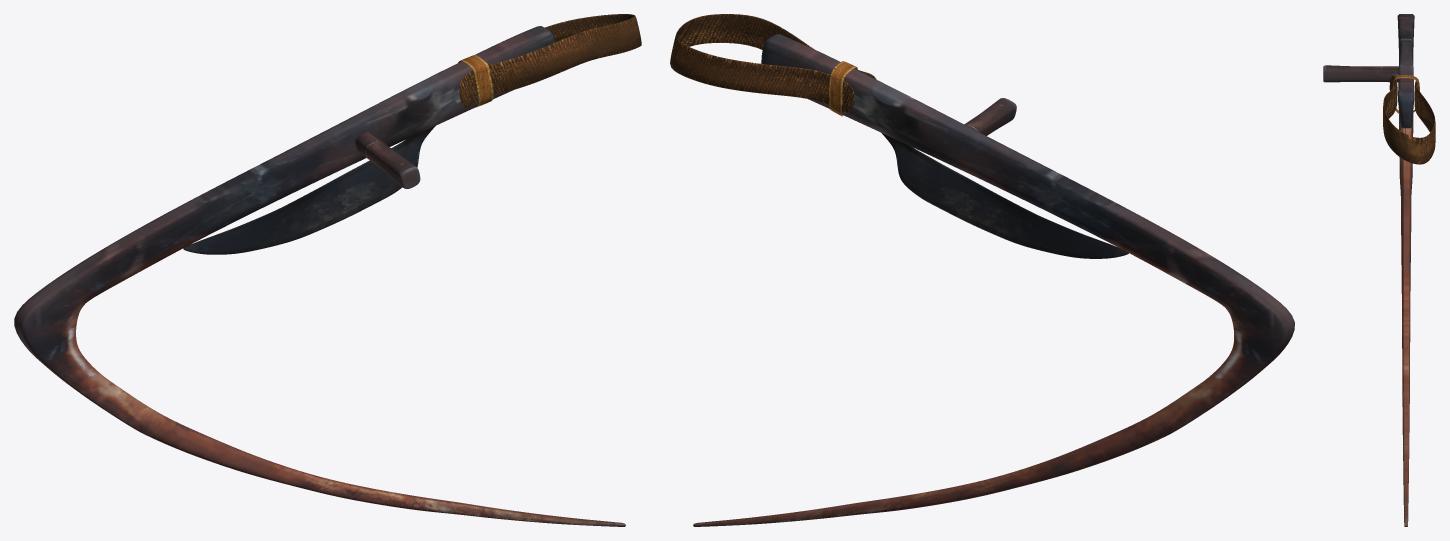
File: liem.gltf
3 views of the same model, side by side, from view 1: azimuth 30°, elevation 25°; view 2: azimuth 150°, elevation 25°; view 3: azimuth 270°, elevation 25° (orthographic). The views are drawn at different scales.
Visible parts, largest first — view 1: Plane.001; view 2: Plane.001; view 3: Plane.001.
Boxes of the visible parts, <box> form: Plane.001: <box>14,14,641,526</box>; Plane.001: <box>670,14,1294,526</box>; Plane.001: <box>1323,14,1435,526</box>.
Bounding box in the file's own units: 7.47 × 5.93 × 1.5.
1 material, 1 textured.
